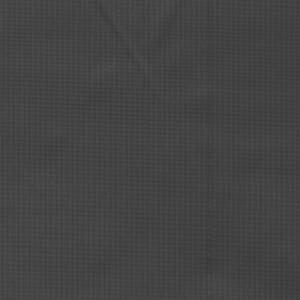Wrinkle: (10, 1, 188, 199), (229, 130, 300, 300)
